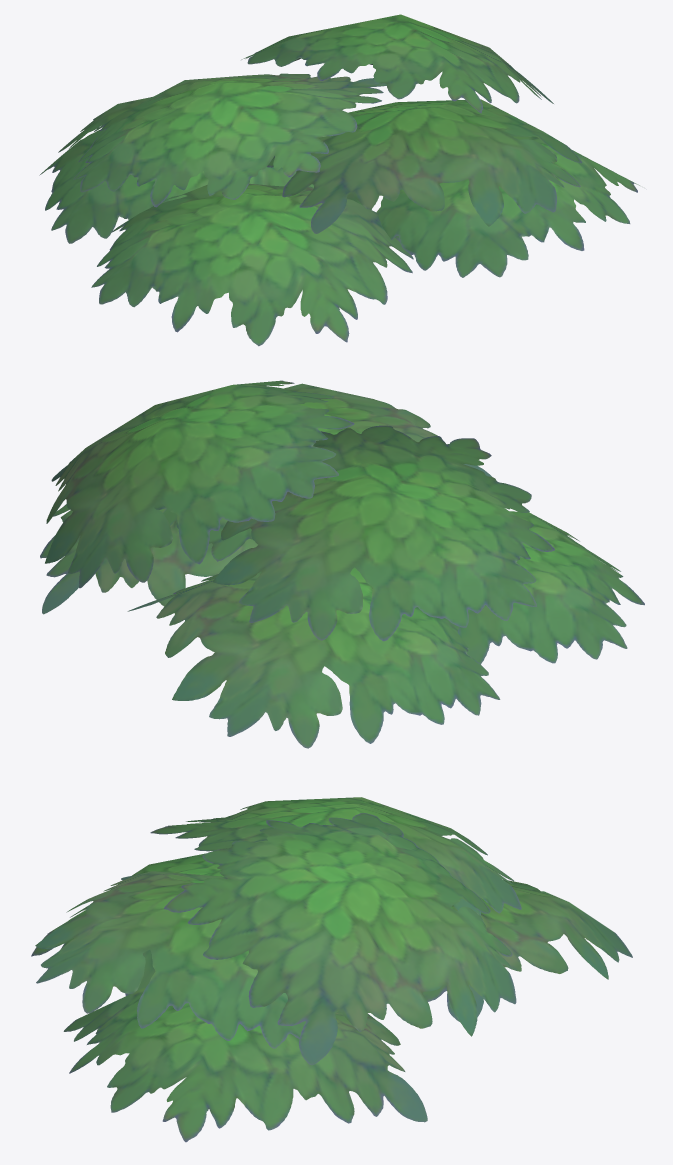
Rendered from Pt_plants_12.FBX.
3 views of the same model, one above another, from view 1: azimuth 30°, elevation 25°; view 2: azimuth 150°, elevation 25°; view 3: azimuth 270°, elevation 25° (orthographic). The views are drawn at different scales.
Visible parts, largest first — view 1: Pt_plants_12; view 2: Pt_plants_12; view 3: Pt_plants_12.
Part boxes in pixels (bbox=[...]): Pt_plants_12: bbox=[39, 14, 639, 346]; Pt_plants_12: bbox=[40, 380, 644, 748]; Pt_plants_12: bbox=[31, 797, 632, 1142].
Size of the model in its own units: 5.1 by 1.71 by 4.79.
1 material, 1 textured.
